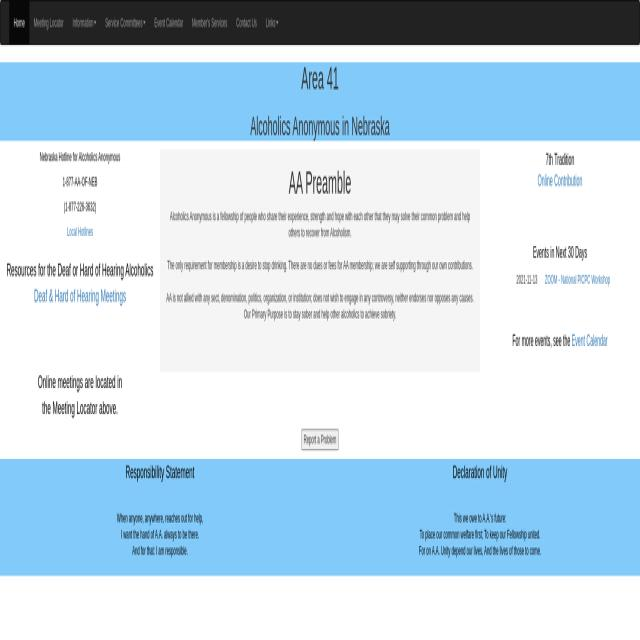button: (101, 1, 150, 44), (188, 1, 232, 44), (150, 1, 188, 45), (30, 1, 68, 44), (68, 1, 101, 44), (232, 1, 261, 44), (261, 1, 283, 44), (9, 1, 29, 44)
field: (301, 429, 339, 450)
